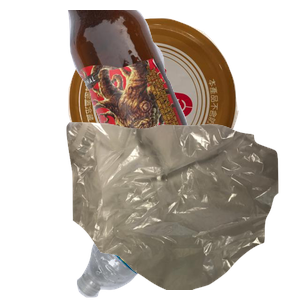glass: (65, 10, 300, 190)
metal: (66, 15, 297, 193)
plastic: (74, 156, 280, 300)
trash: (64, 120, 300, 300)
